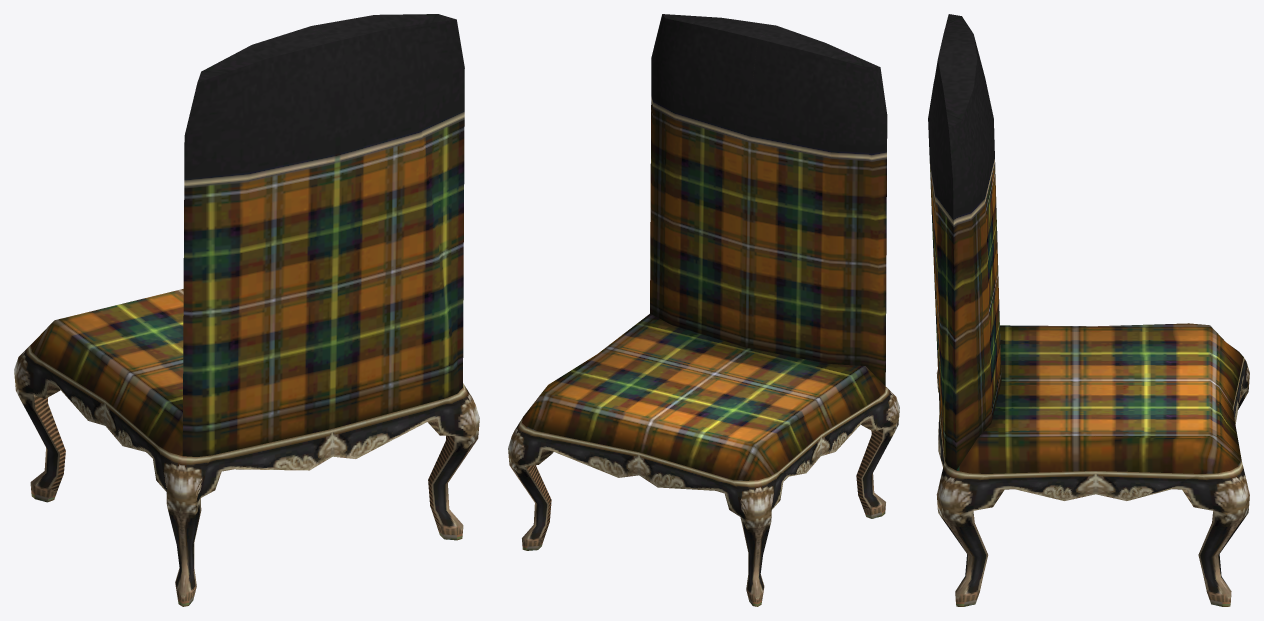
Rendered from furni_0200314_03.FBX.
3 renders of one model, left to right at view 1: azimuth 30°, elevation 25°; view 2: azimuth 150°, elevation 25°; view 3: azimuth 270°, elevation 25°, orthographic. The views are drawn at different scales.
Visible parts, largest first — view 1: furni_0200314_03; view 2: furni_0200314_03; view 3: furni_0200314_03.
Part boxes in pixels (left/top/right/bottom): furni_0200314_03: left=14, top=14, right=479, bottom=606; furni_0200314_03: left=508, top=14, right=899, bottom=606; furni_0200314_03: left=928, top=14, right=1249, bottom=606.
Size of the model in its own units: 80.4 by 134 by 80.29.
